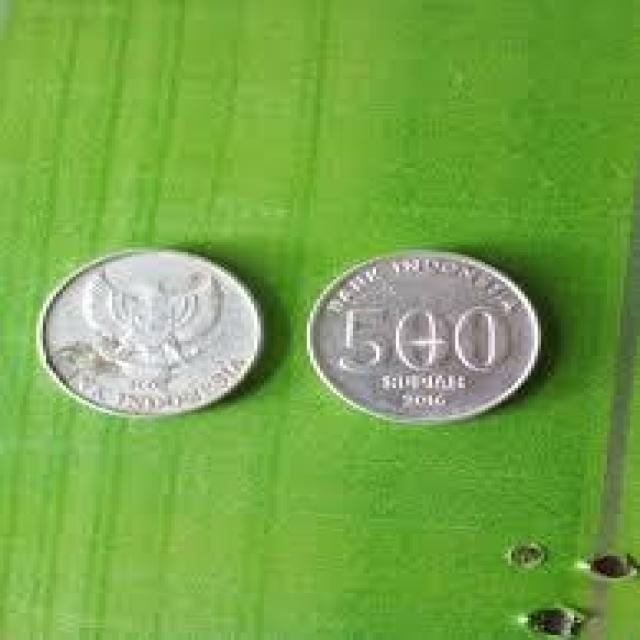500-silver: (300, 250, 560, 439)
